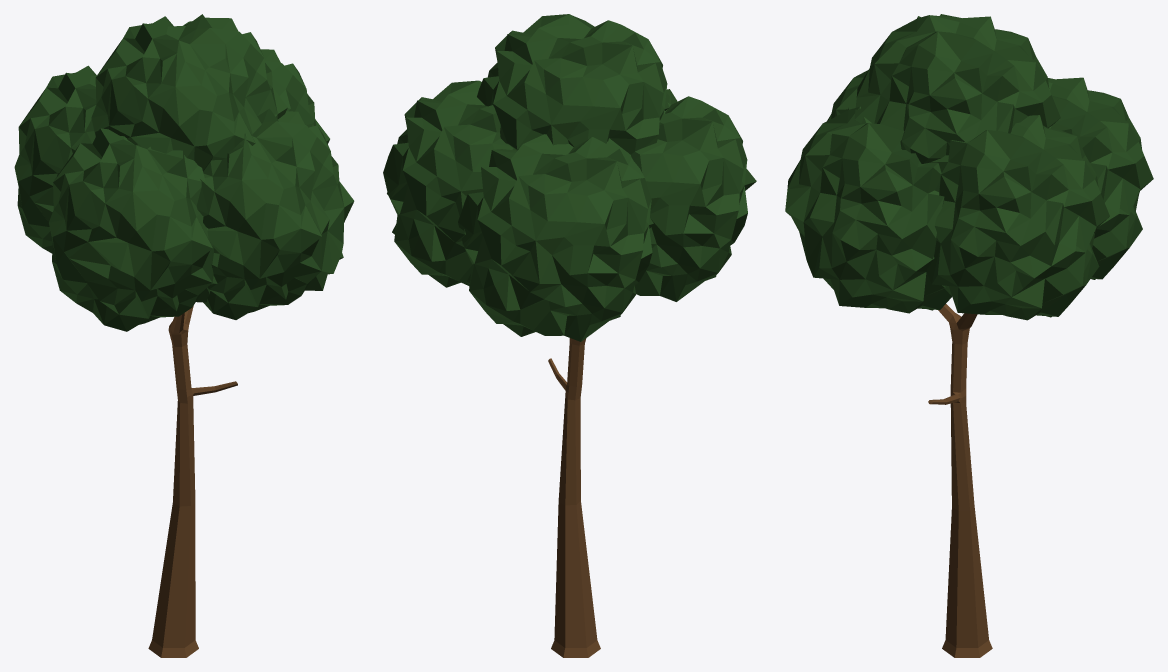
Rendered from folliage3.glb.
3 renders of one model, left to right at view 1: azimuth 30°, elevation 25°; view 2: azimuth 150°, elevation 25°; view 3: azimuth 270°, elevation 25°, orthographic.
Parts seen in each view (by area): view 1: LowPoly Tree 07.011; view 2: LowPoly Tree 07.011; view 3: LowPoly Tree 07.011.
Part boxes in pixels (x1=…): LowPoly Tree 07.011: x1=14, y1=14, x2=354, y2=657; LowPoly Tree 07.011: x1=383, y1=14, x2=756, y2=657; LowPoly Tree 07.011: x1=785, y1=14, x2=1153, y2=657.
Size of the model in its own units: 1.08 by 2.14 by 1.14.
